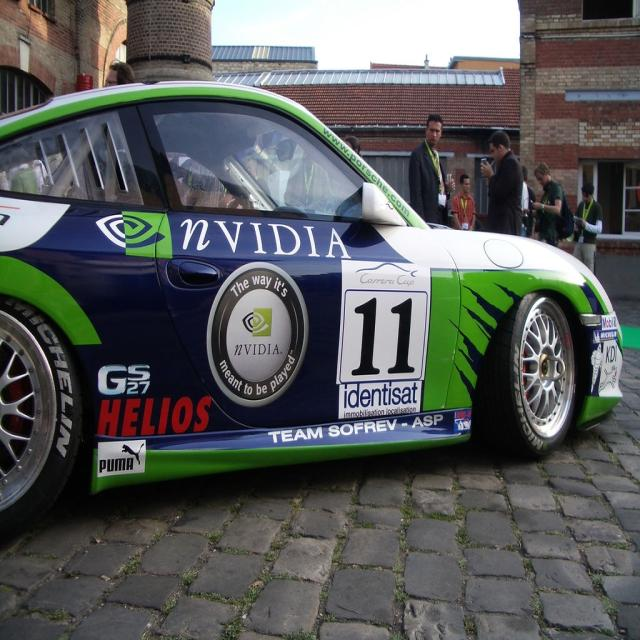nvidia: (95, 210, 174, 260), (242, 308, 274, 339)
